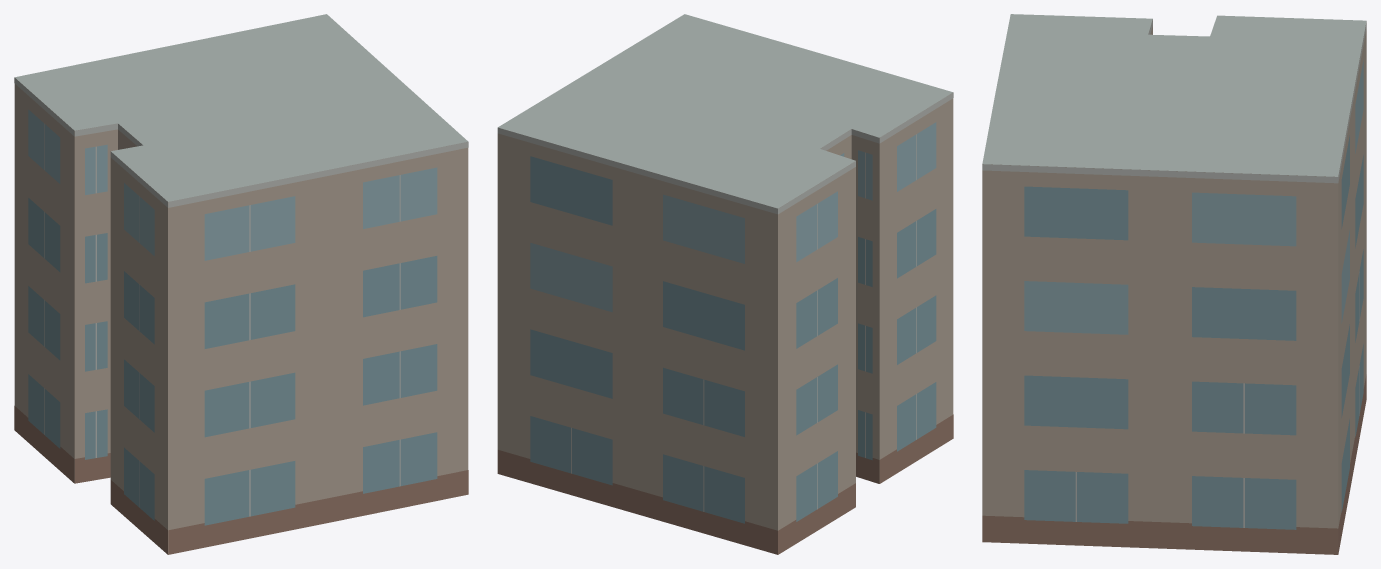
File: survey-upis-32559908.glb
3 views of the same model, side by side, from view 1: azimuth 30°, elevation 25°; view 2: azimuth 150°, elevation 25°; view 3: azimuth 270°, elevation 25° (orthographic). The views are drawn at different scales.
Parts seen in each view (by area): view 1: survey-upis-32559908.tmp; view 2: survey-upis-32559908.tmp; view 3: survey-upis-32559908.tmp.
Boxes of the visible parts, left/top/right/bottom form: survey-upis-32559908.tmp: left=14, top=14, right=468, bottom=554; survey-upis-32559908.tmp: left=497, top=14, right=953, bottom=554; survey-upis-32559908.tmp: left=982, top=14, right=1366, bottom=554.
Bounding box in the file's own units: 13.32 × 14.4 × 13.28.
